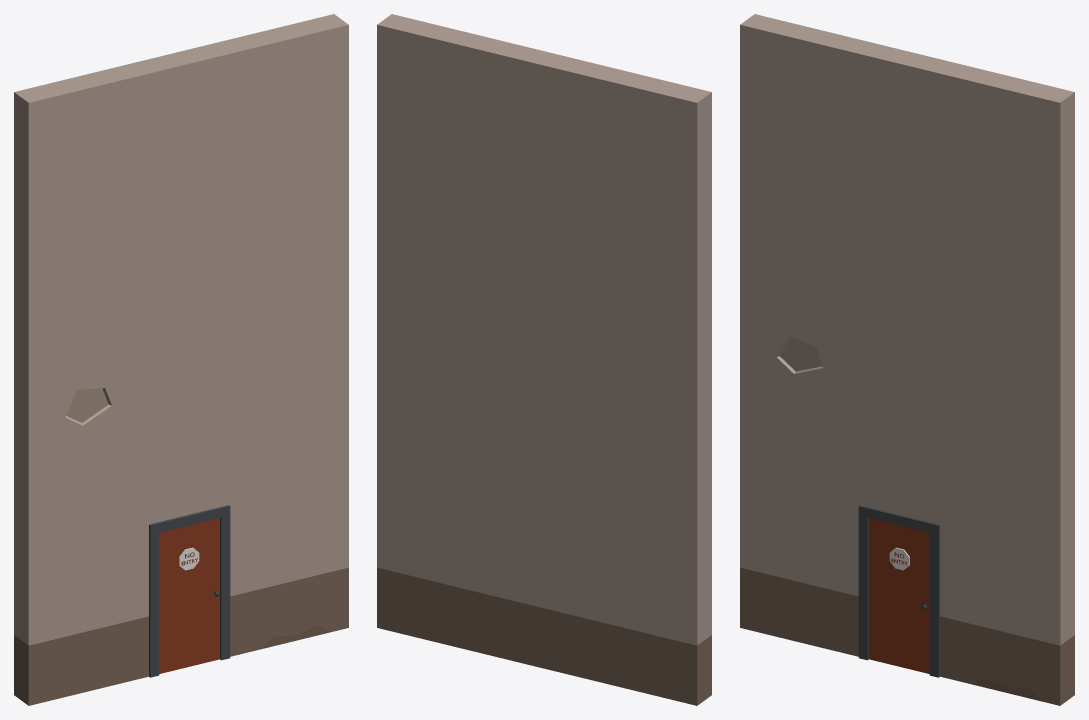
Rendered from Wall2_09.fbx.
3 views of the same model, side by side, from view 1: azimuth 30°, elevation 25°; view 2: azimuth 150°, elevation 25°; view 3: azimuth 330°, elevation 25° (orthographic).
Visible parts, largest first — view 1: Wall2_09; view 2: Wall2_09; view 3: Wall2_09.
Part boxes in pixels (left/top/right/bottom): Wall2_09: left=14, top=14, right=348, bottom=705; Wall2_09: left=377, top=14, right=711, bottom=705; Wall2_09: left=740, top=14, right=1074, bottom=705.
Size of the model in its own units: 500 by 900 by 48.04.
